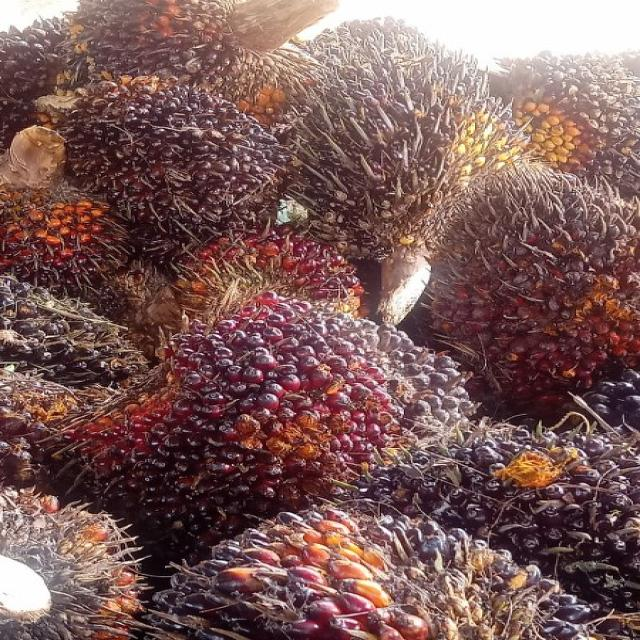fraksi 1: (91, 256, 472, 570)
